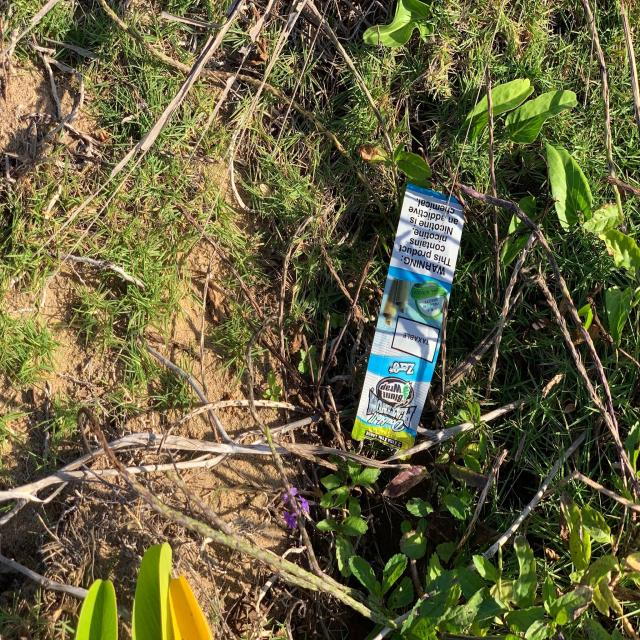litter: (351, 181, 467, 459)
